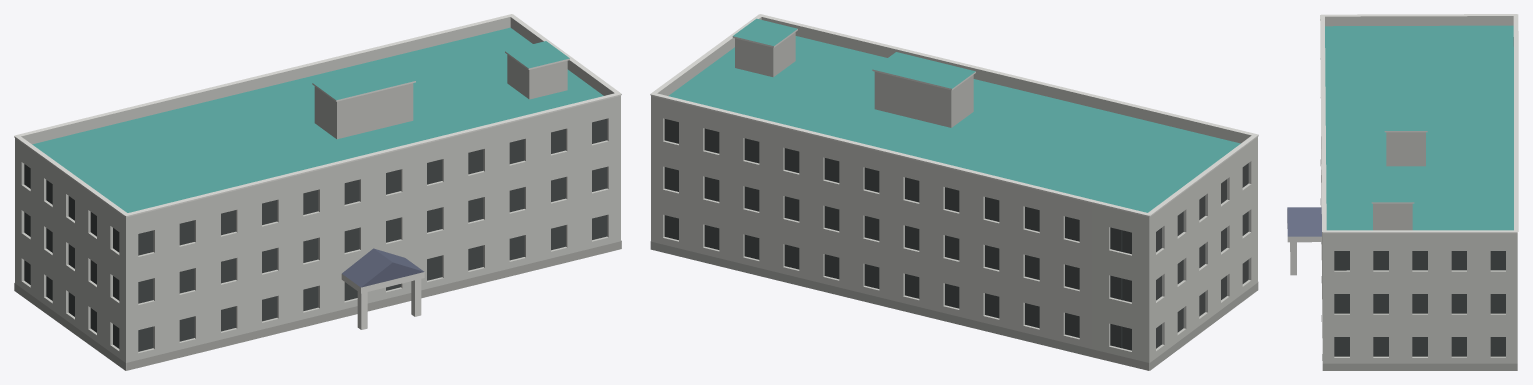
3 renders of one model, left to right at view 1: azimuth 30°, elevation 25°; view 2: azimuth 150°, elevation 25°; view 3: azimuth 270°, elevation 25°, orthographic. The views are drawn at different scales.
Parts seen in each view (by area): view 1: rotc__wall, rotc__roof, rotc__glass, rotc__parapet, rotc__trim, rotc__wall2, rotc__base, rotc__porchRoof, rotc__column; view 2: rotc__wall, rotc__roof, rotc__glass, rotc__parapet, rotc__wall2, rotc__trim, rotc__base; view 3: rotc__roof, rotc__wall, rotc__glass, rotc__trim, rotc__parapet, rotc__wall2, rotc__base, rotc__porchRoof, rotc__column.
Boxes of the visible parts, left/top/right/bottom form: rotc__wall: left=15, top=104, right=620, bottom=370; rotc__roof: left=32, top=27, right=603, bottom=212; rotc__glass: left=24, top=118, right=607, bottom=351; rotc__parapet: left=15, top=17, right=620, bottom=226; rotc__trim: left=14, top=14, right=621, bottom=293; rotc__wall2: left=314, top=55, right=567, bottom=139; rotc__base: left=14, top=240, right=621, bottom=370; rotc__porchRoof: left=342, top=248, right=424, bottom=287; rotc__column: left=357, top=279, right=421, bottom=329; rotc__wall: left=651, top=105, right=1257, bottom=370; rotc__roof: left=668, top=18, right=1240, bottom=212; rotc__glass: left=664, top=119, right=1248, bottom=350; rotc__parapet: left=651, top=17, right=1257, bottom=225; rotc__wall2: left=735, top=32, right=973, bottom=127; rotc__trim: left=650, top=14, right=1258, bottom=216; rotc__base: left=650, top=241, right=1258, bottom=370; rotc__roof: left=1325, top=25, right=1513, bottom=230; rotc__wall: left=1321, top=137, right=1517, bottom=363; rotc__glass: left=1334, top=251, right=1505, bottom=356; rotc__trim: left=1287, top=14, right=1518, bottom=242; rotc__parapet: left=1322, top=16, right=1517, bottom=241; rotc__wall2: left=1373, top=132, right=1425, bottom=230; rotc__base: left=1320, top=159, right=1517, bottom=370; rotc__porchRoof: left=1287, top=207, right=1321, bottom=236; rotc__column: left=1290, top=242, right=1296, bottom=275.
Bounding box in the file's own units: 39.07 × 13.8 × 17.5.
